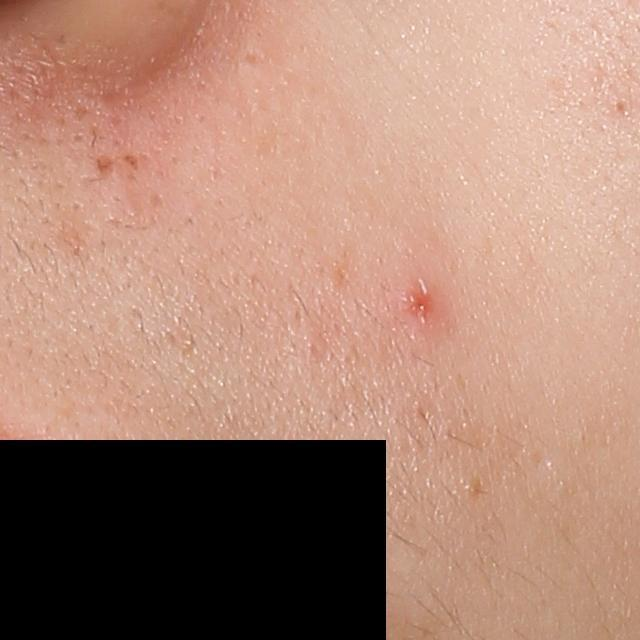atrophic_scar: (95, 154, 114, 177), (124, 154, 143, 170)
comedo: (609, 97, 628, 115)
papule: (397, 282, 434, 325)
